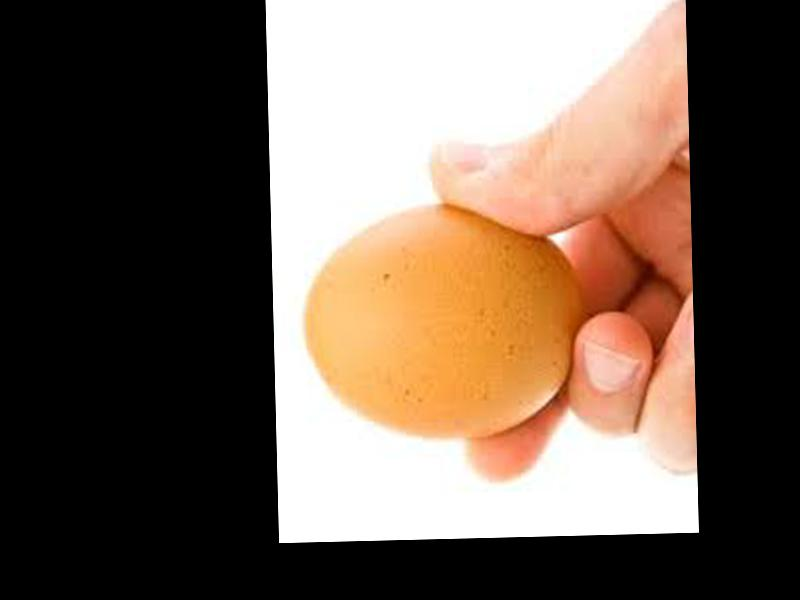Eggs: (299, 200, 579, 444)
